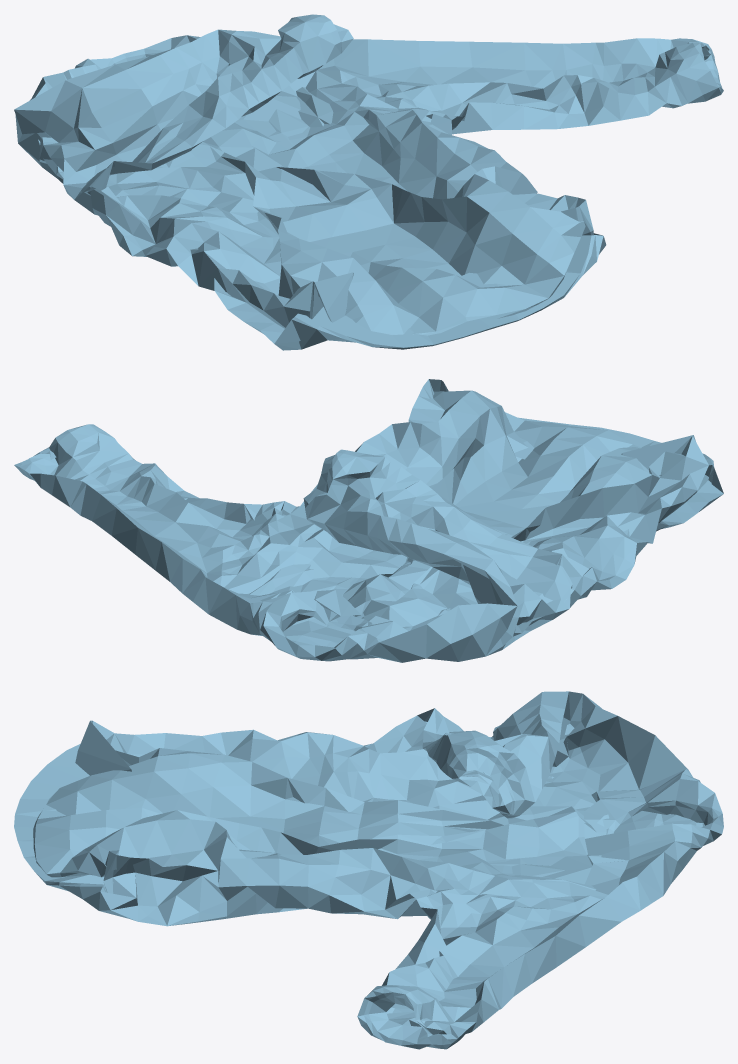
File: frame_19.glb
The picture shows the model from 3 angles, top to bottom: view 1: azimuth 30°, elevation 25°; view 2: azimuth 150°, elevation 25°; view 3: azimuth 270°, elevation 25°; orthographic projection. The views are drawn at different scales.
Visible parts, largest first — view 1: frame_19.obj; view 2: frame_19.obj; view 3: frame_19.obj.
Boxes of the visible parts, left/top/right/bottom form: frame_19.obj: left=14, top=14, right=723, bottom=350; frame_19.obj: left=14, top=379, right=723, bottom=662; frame_19.obj: left=14, top=691, right=723, bottom=1049.
Size of the model in its own units: 1.41 by 0.33 by 1.38.
